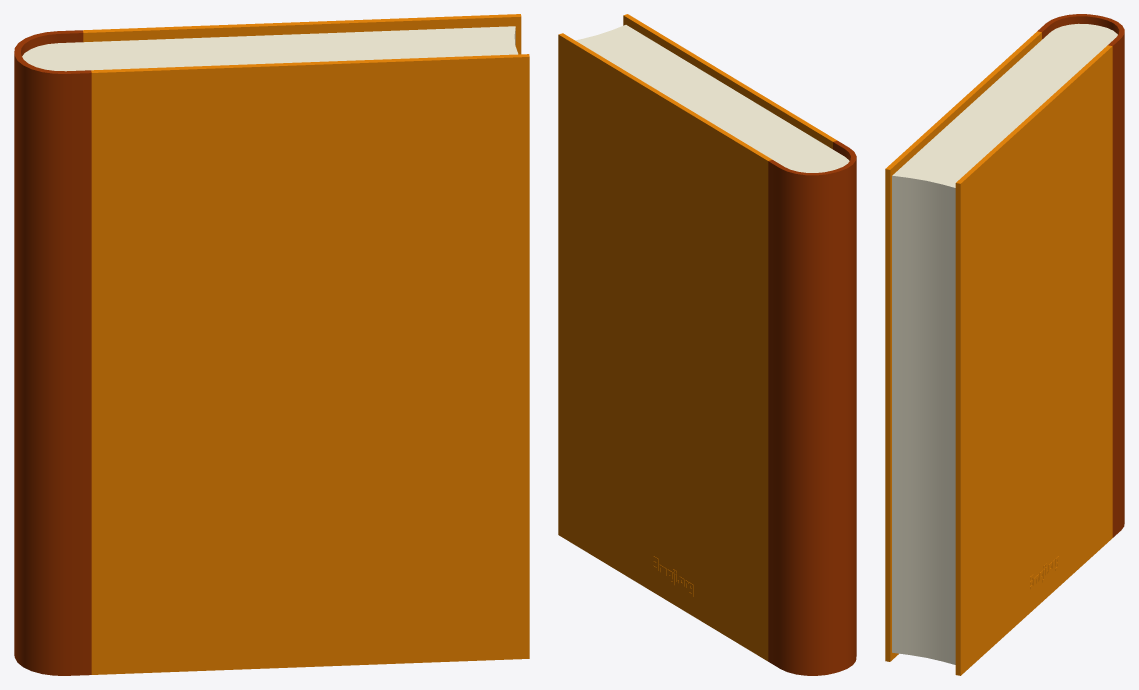
Rendered from orange_book.fbx.
3 renders of one model, left to right at view 1: azimuth 30°, elevation 25°; view 2: azimuth 150°, elevation 25°; view 3: azimuth 270°, elevation 25°, orthographic. The views are drawn at different scales.
Visible parts, largest first — view 1: Cube.949; view 2: Cube.949; view 3: Cube.949.
Part boxes in pixels (x1,y1,x2,y2): Cube.949: [14, 14, 529, 675]; Cube.949: [558, 14, 856, 675]; Cube.949: [885, 14, 1124, 675].
Size of the model in its own units: 155 by 210 by 92.63.
Materials: 1 (1 with a texture image).
